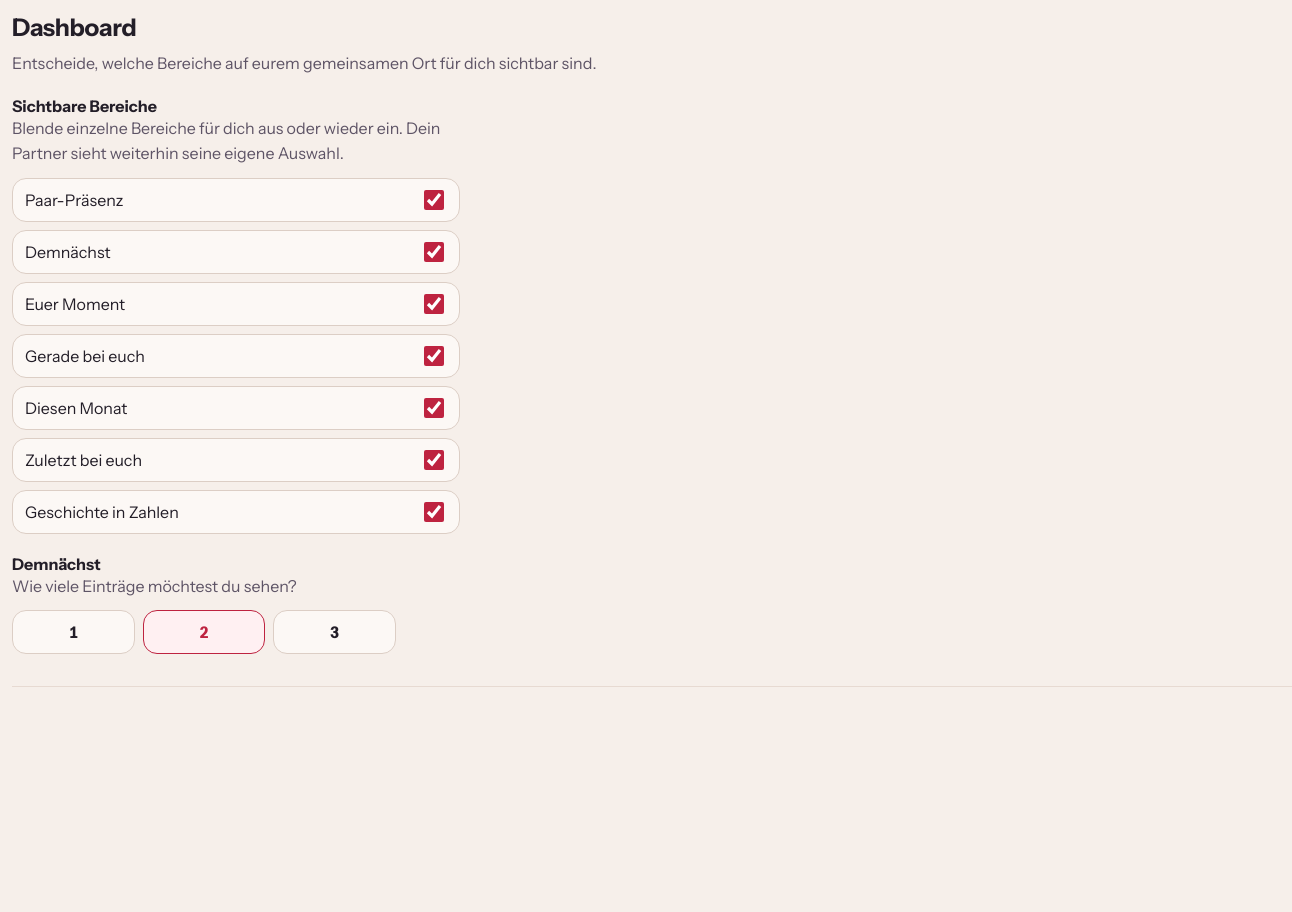
Test: DashboardSettingsPanel › restores the confirmed value when immediate persistence fails
Click the radio button labelled "1".
click(73, 632)  # box [12, 610, 135, 654]
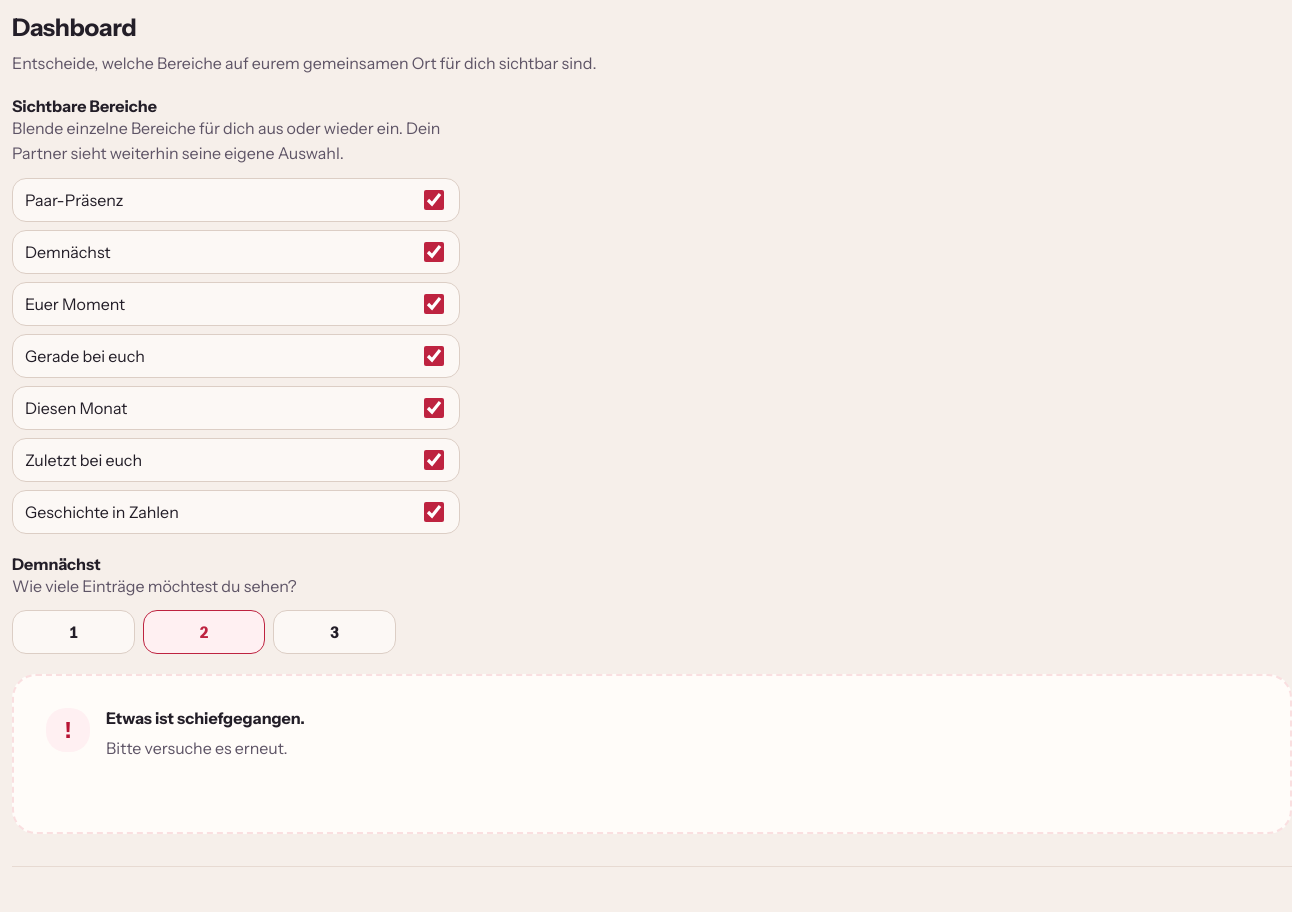
Expected: the radio button labelled "2" is checked, [143, 610, 265, 654]
Result: the message "! Etwas ist schiefgegangen. Bitte versuche es erneut." is shown at [12, 674, 1291, 834]
